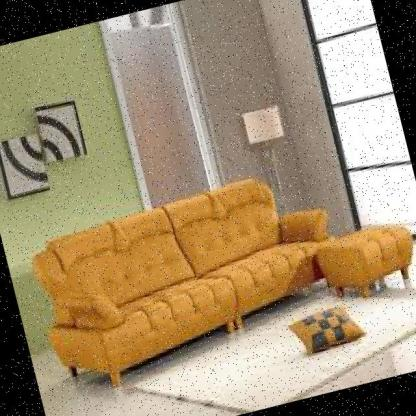Sofa: (12, 137, 416, 402)
